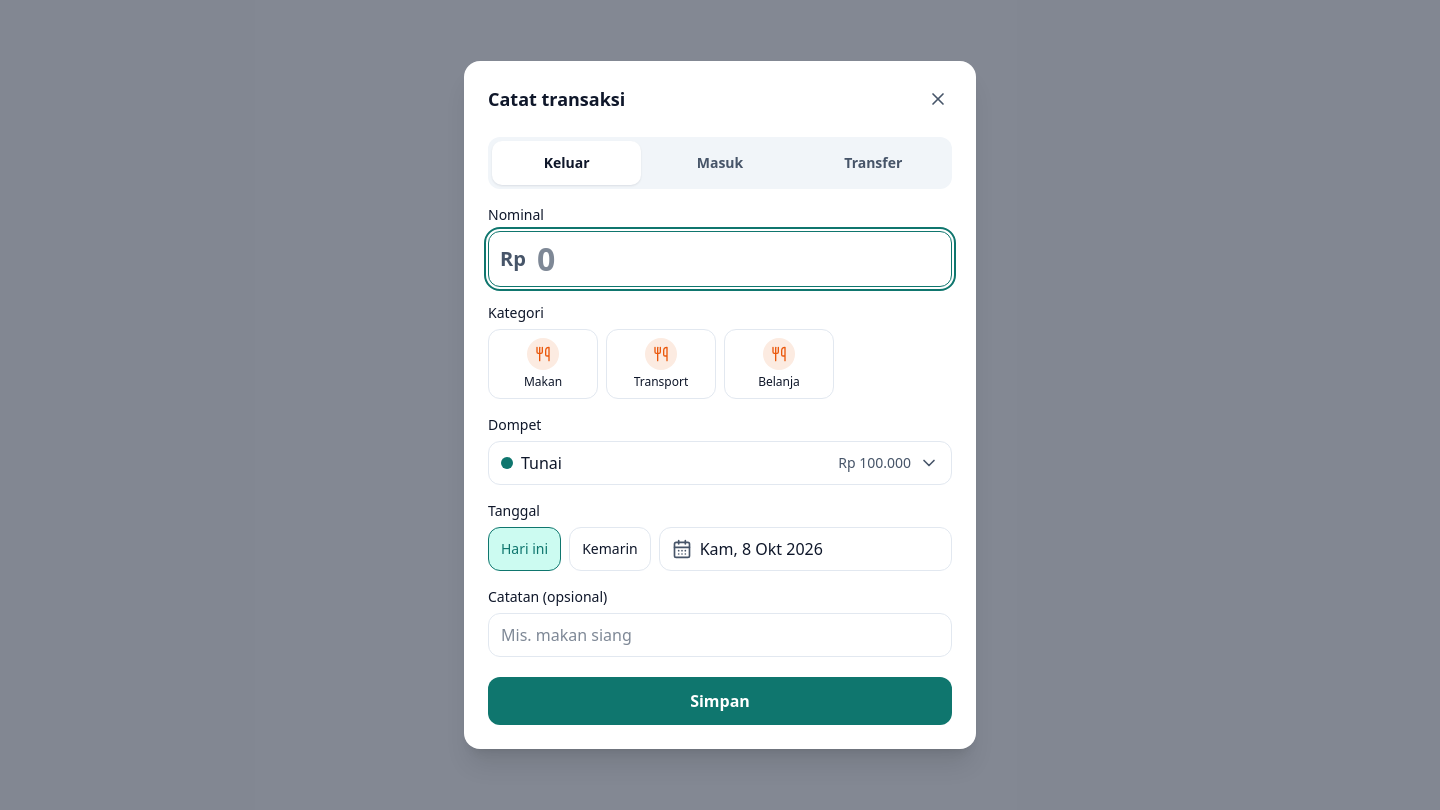
Scenario: saran kategori di form transaksi › memilih otomatis dari catatan dan mengikuti catatan selama belum diganti pengguna
Check: the field labelled "Nominal" is shown, box [488,231,952,287]
Type "Isi bensin" into the text box labelled "Catatan (opsional)" at coordinates (720, 635), box [488,613,952,657]
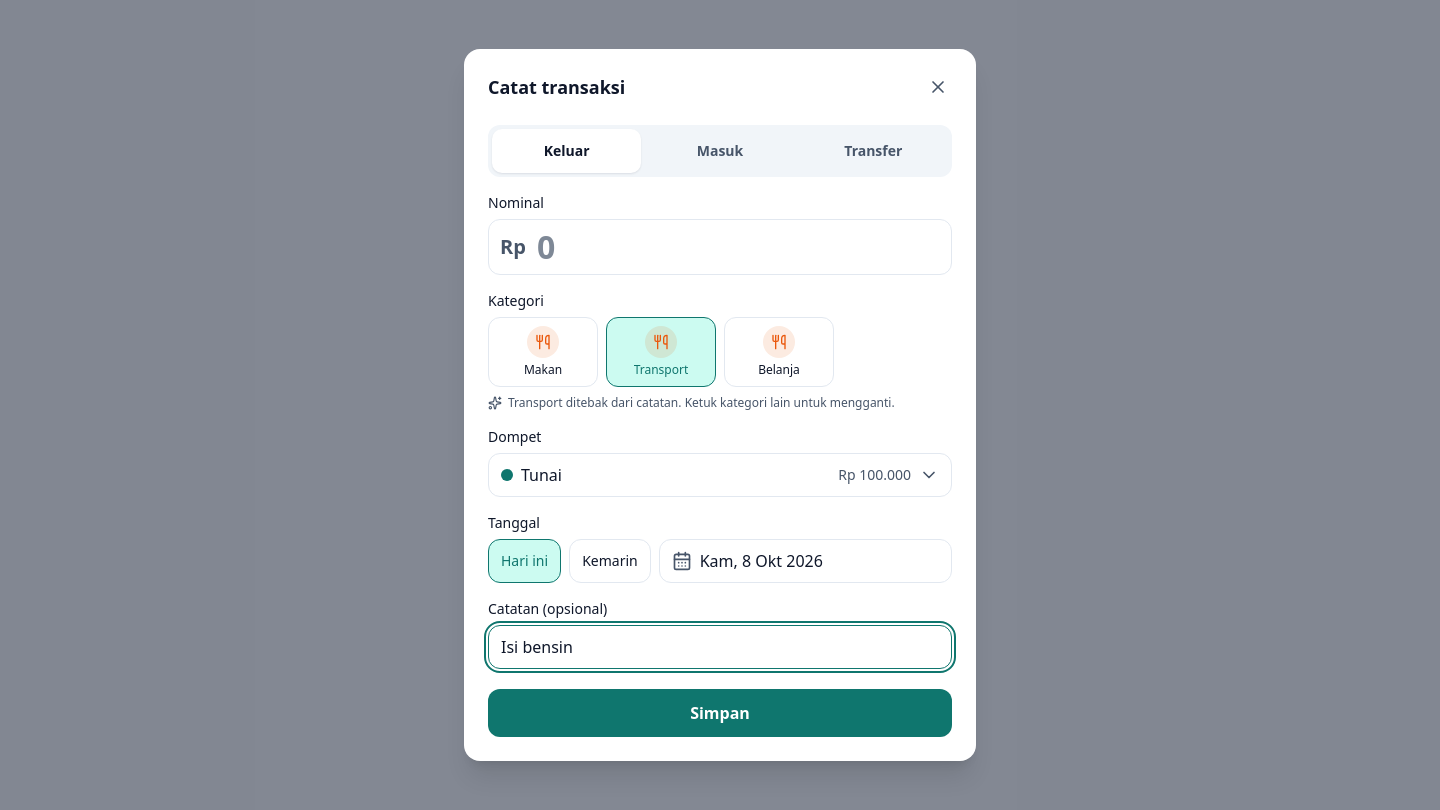
Check: the radio button labelled "Transport" is checked, box [606,317,716,387]
Check: the text "Transport ditebak dari catatan." is shown, box [508,394,682,411]
Clear the text box labelled "Catatan (opsional)" at coordinates (720, 647), box [488,625,952,669]
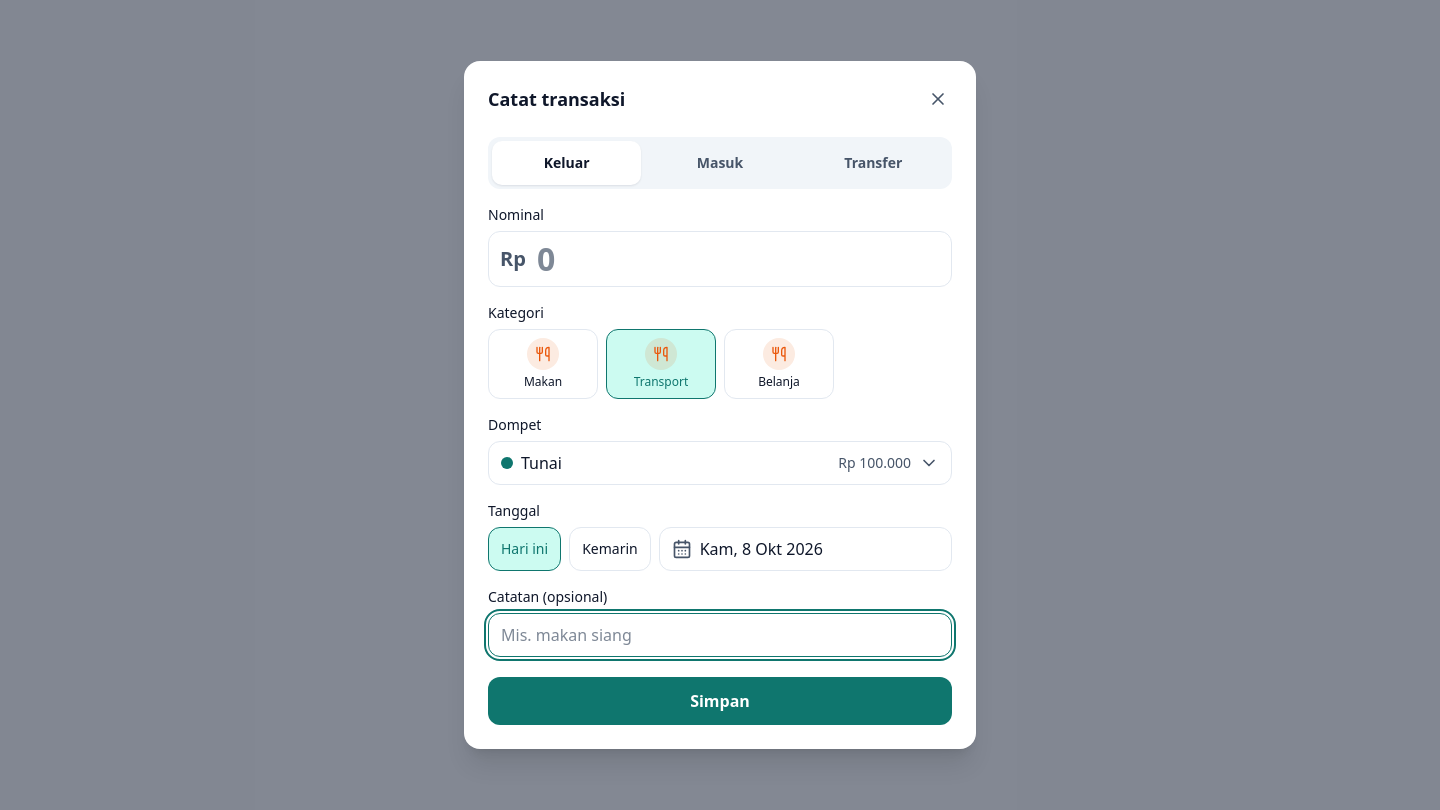
Type "Makan siang" into the text box labelled "Catatan (opsional)" at coordinates (720, 635), box [488,613,952,657]
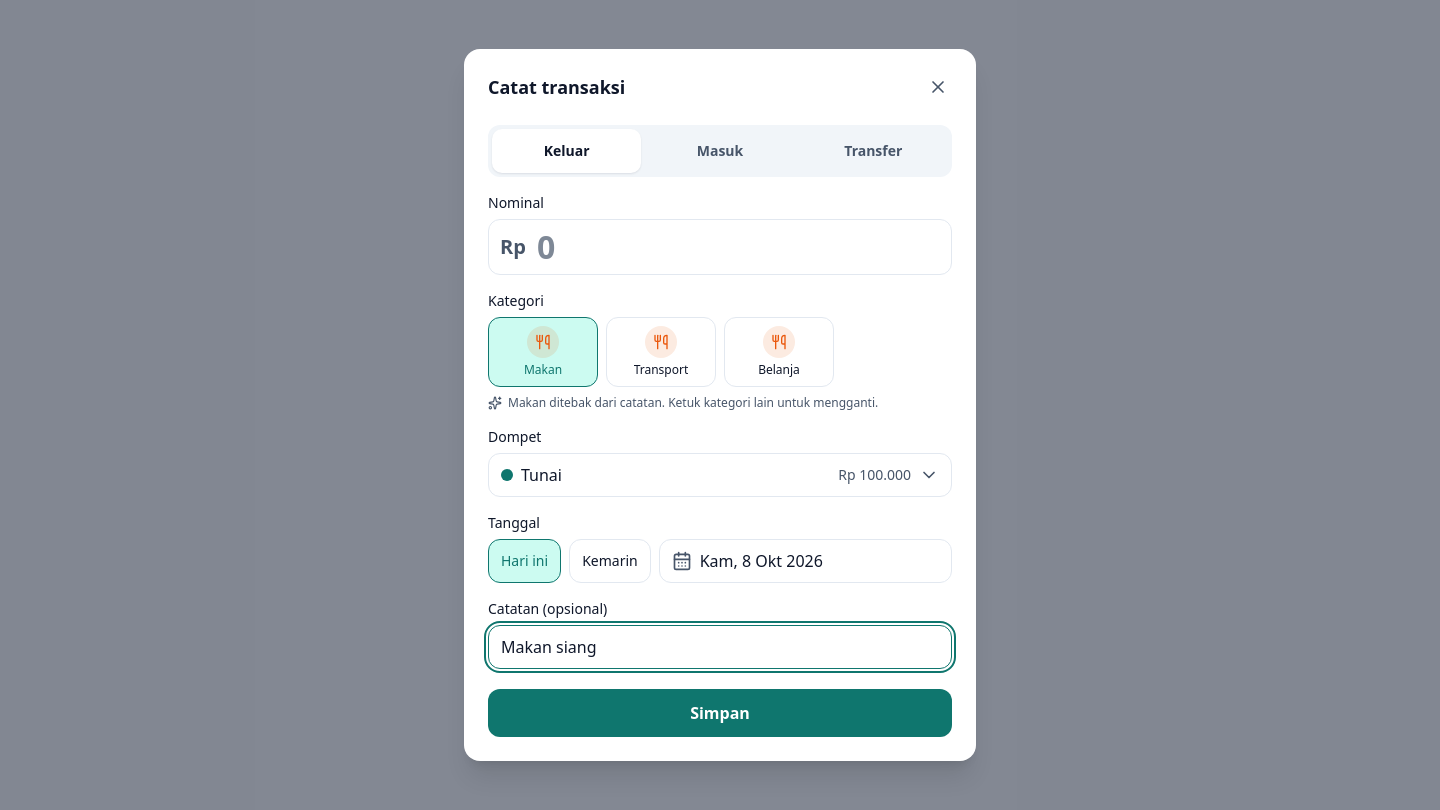
Check: the radio button labelled "Makan" is checked, box [488,317,598,387]
